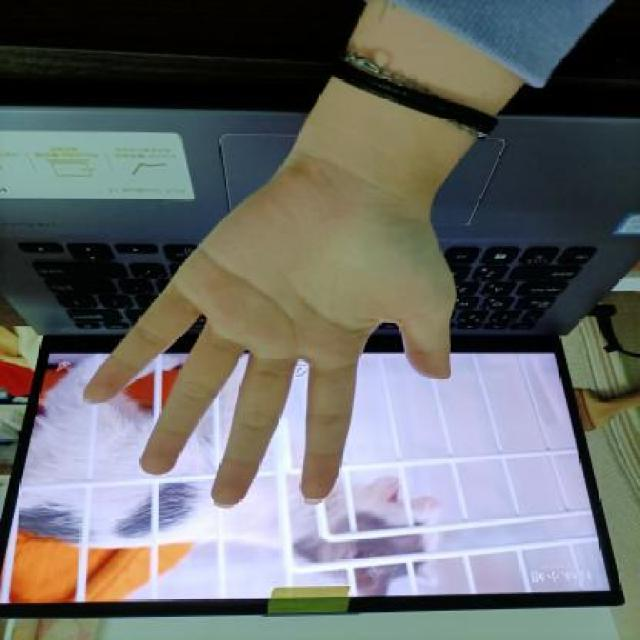bare_hand: (66, 154, 469, 518)
